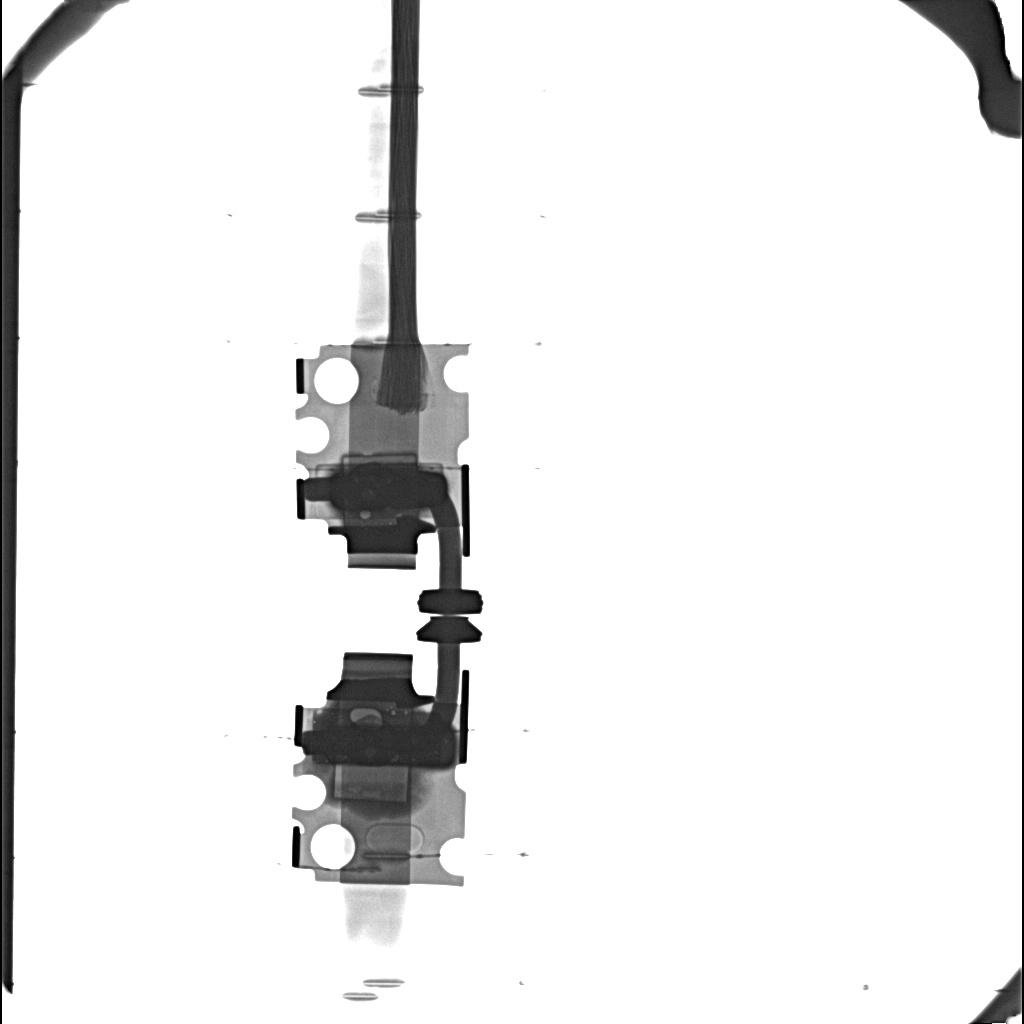PX: (332, 766, 410, 804), (342, 452, 418, 469)
QP: (350, 707, 382, 722), (360, 512, 370, 521)
SX: (320, 725, 455, 767), (330, 468, 447, 510)
